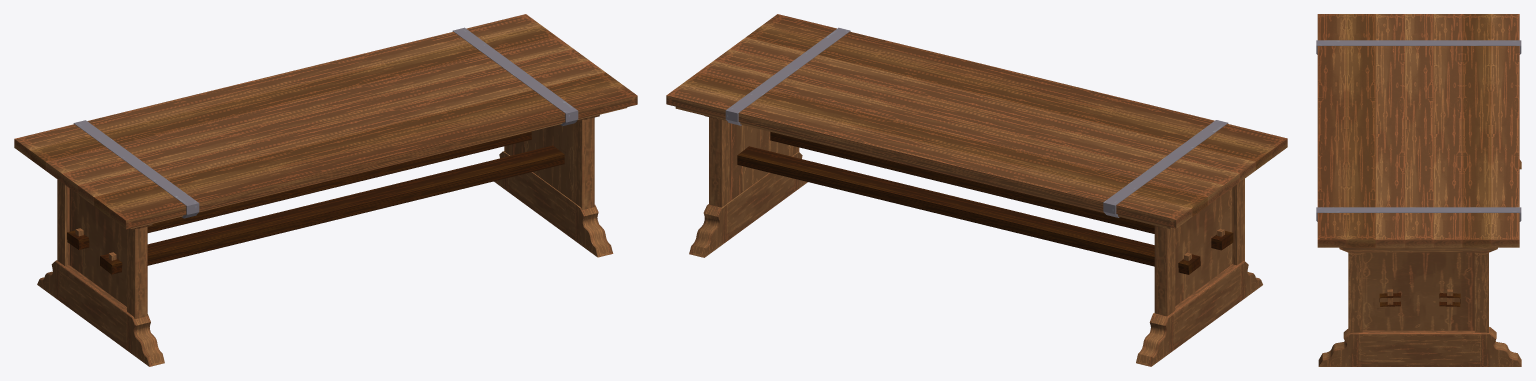
File: Table_Large.glb
The picture shows the model from 3 angles, left to right: view 1: azimuth 30°, elevation 25°; view 2: azimuth 150°, elevation 25°; view 3: azimuth 270°, elevation 25°; orthographic projection. The views are drawn at different scales.
Parts seen in each view (by area): view 1: Table_Large; view 2: Table_Large; view 3: Table_Large.
Boxes of the visible parts, x1,y1,x2,y2 form: Table_Large: [14, 14, 637, 366]; Table_Large: [666, 14, 1287, 366]; Table_Large: [1316, 14, 1521, 366].
Size of the model in its own units: 2.85 by 0.8134 by 1.1.
Materials: 2 (2 with a texture image).
